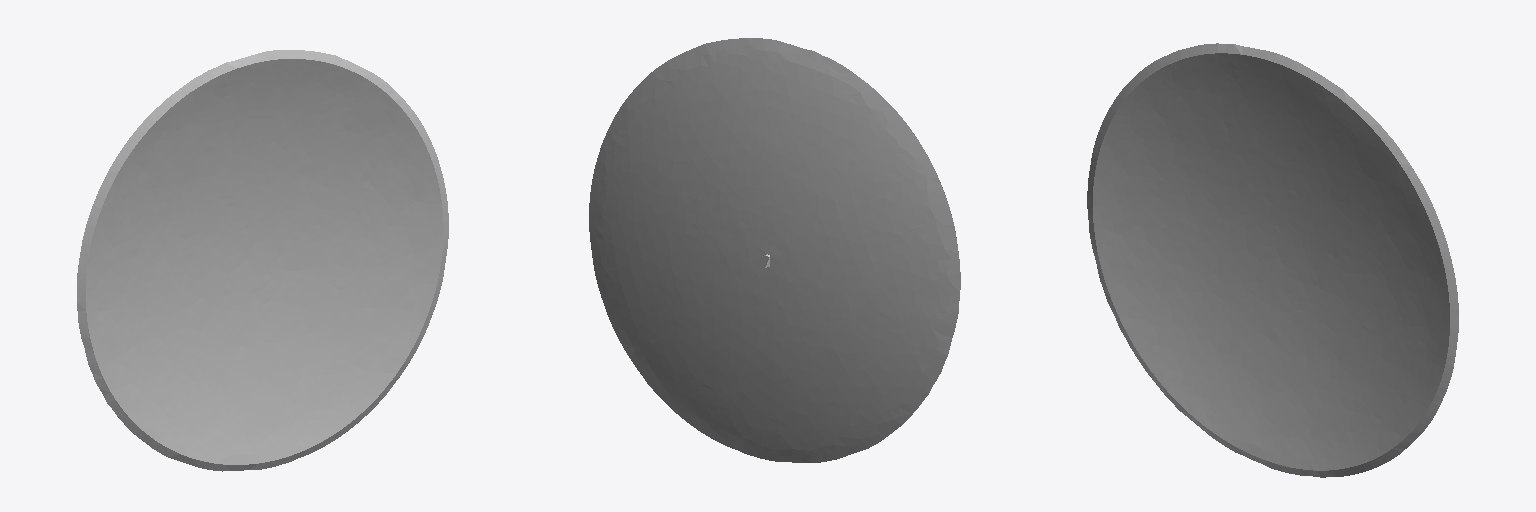
File: Amulet_July_Disk_31.obj
3 renders of one model, left to right at view 1: azimuth 30°, elevation 25°; view 2: azimuth 150°, elevation 25°; view 3: azimuth 330°, elevation 25°, orthographic.
Bounding box in the file's own units: 36.29 × 39.15 × 3.3.